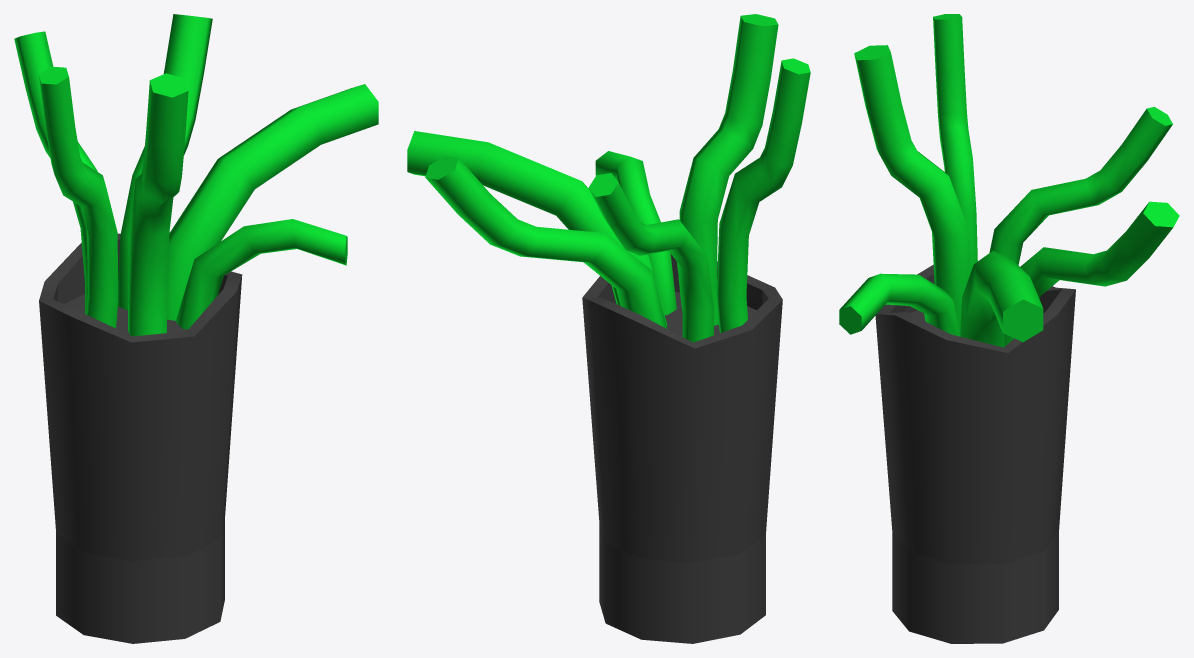
Rendered from SM_ENV_BROKEN_CABLE_01.FBX.
The picture shows the model from 3 angles, left to right: view 1: azimuth 30°, elevation 25°; view 2: azimuth 150°, elevation 25°; view 3: azimuth 270°, elevation 25°; orthographic projection. The views are drawn at different scales.
Visible parts, largest first — view 1: Cylinder001; view 2: Cylinder001; view 3: Cylinder001.
Part boxes in pixels (left/top/right/bottom): Cylinder001: left=14, top=14, right=378, bottom=643; Cylinder001: left=407, top=14, right=810, bottom=643; Cylinder001: left=839, top=14, right=1179, bottom=643.
Bounding box in the file's own units: 39.01 × 57.95 × 32.55.
